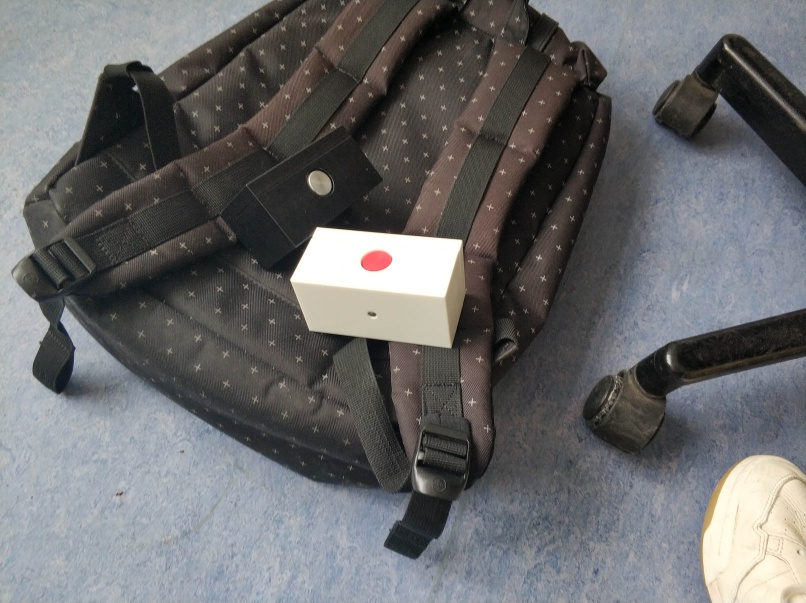black+black+silver: (216, 123, 387, 275)
white+white+red: (283, 224, 470, 352)
